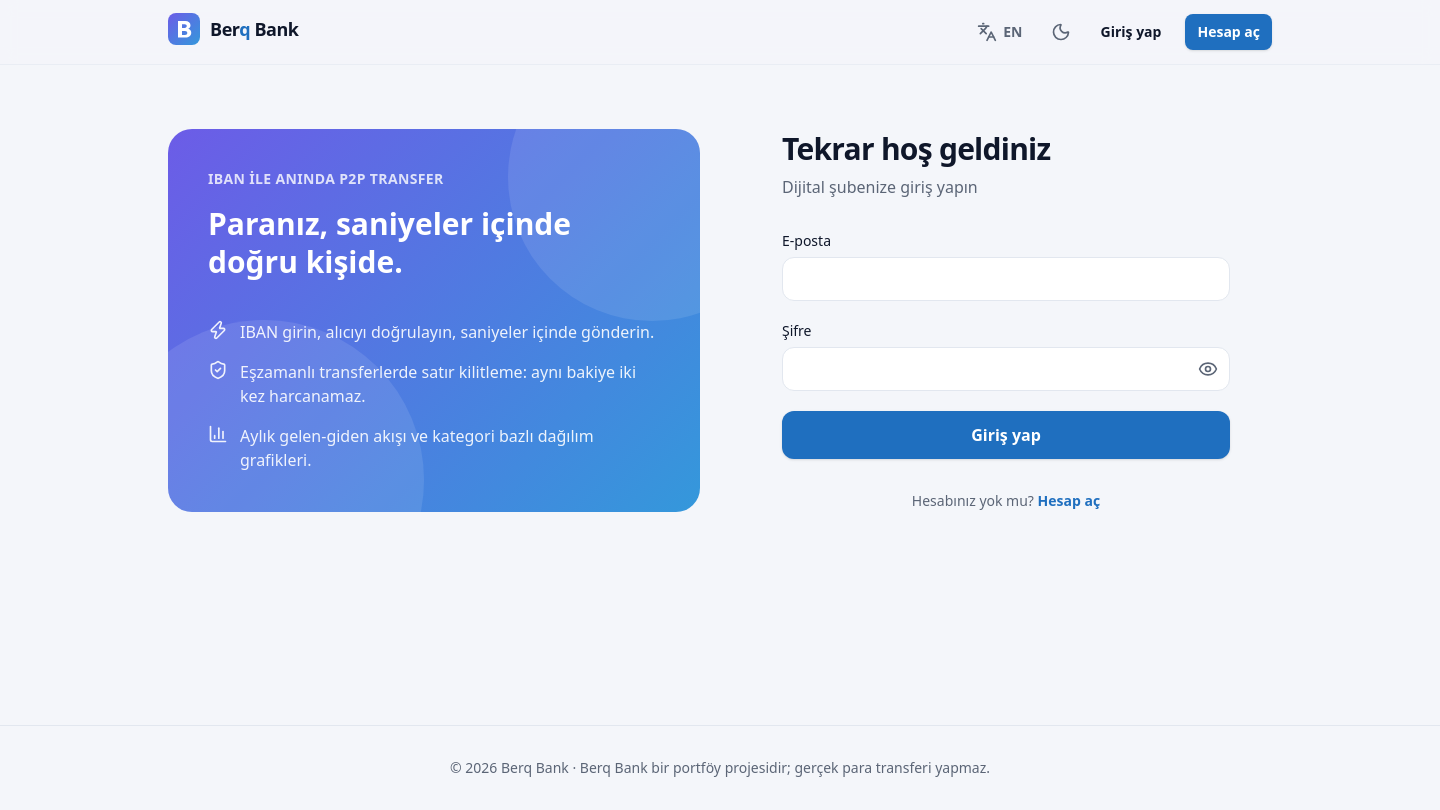
authentication flow › shows the translated server error for wrong credentials
The width and height of the screenshot is (1440, 810).
In the field labelled "E-posta": (1006,278) top-left (782, 256), bottom-right (1230, 300), type "demo@berqbank.dev"
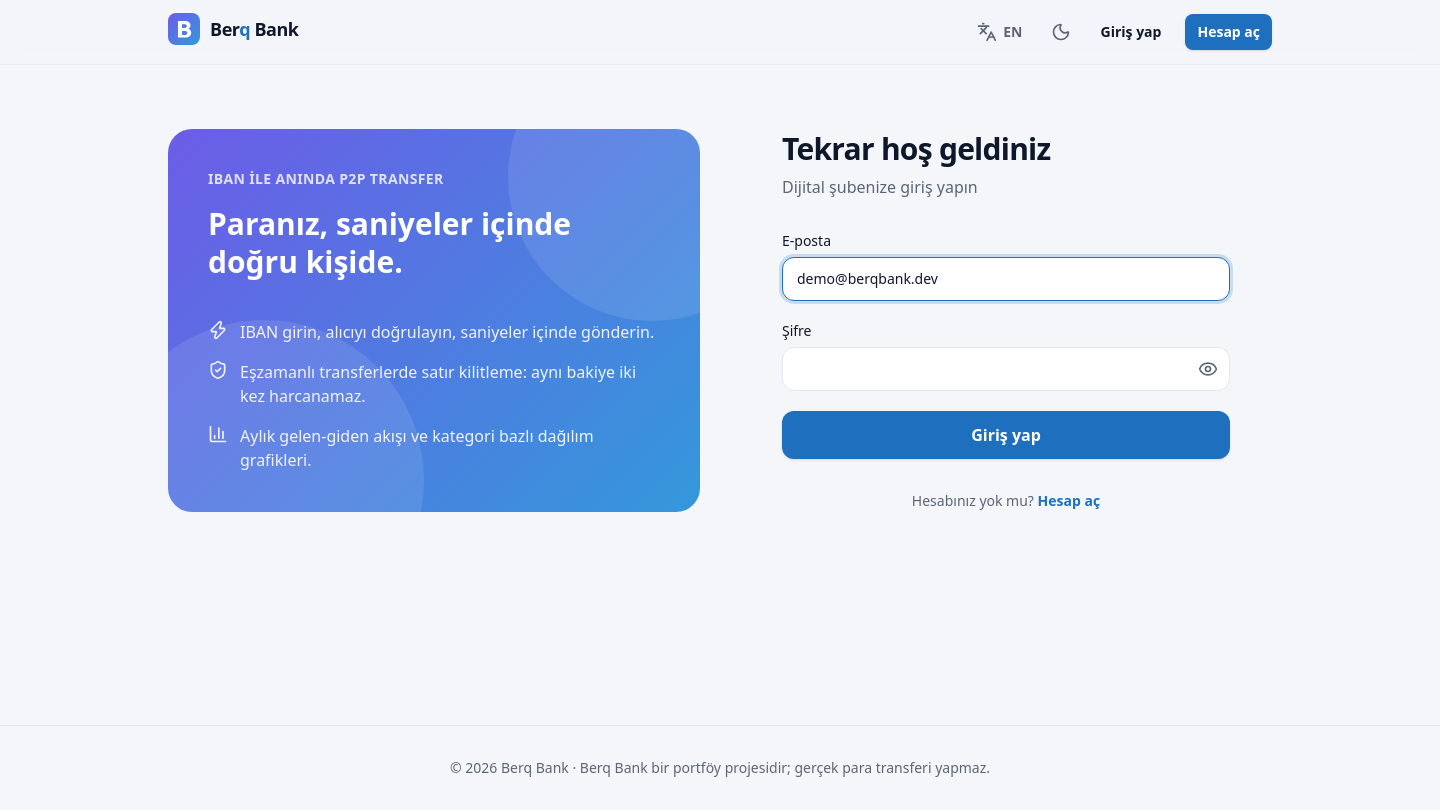
In the password field labelled "Şifre": (1006,368) top-left (782, 346), bottom-right (1230, 390), type "wrong-password"
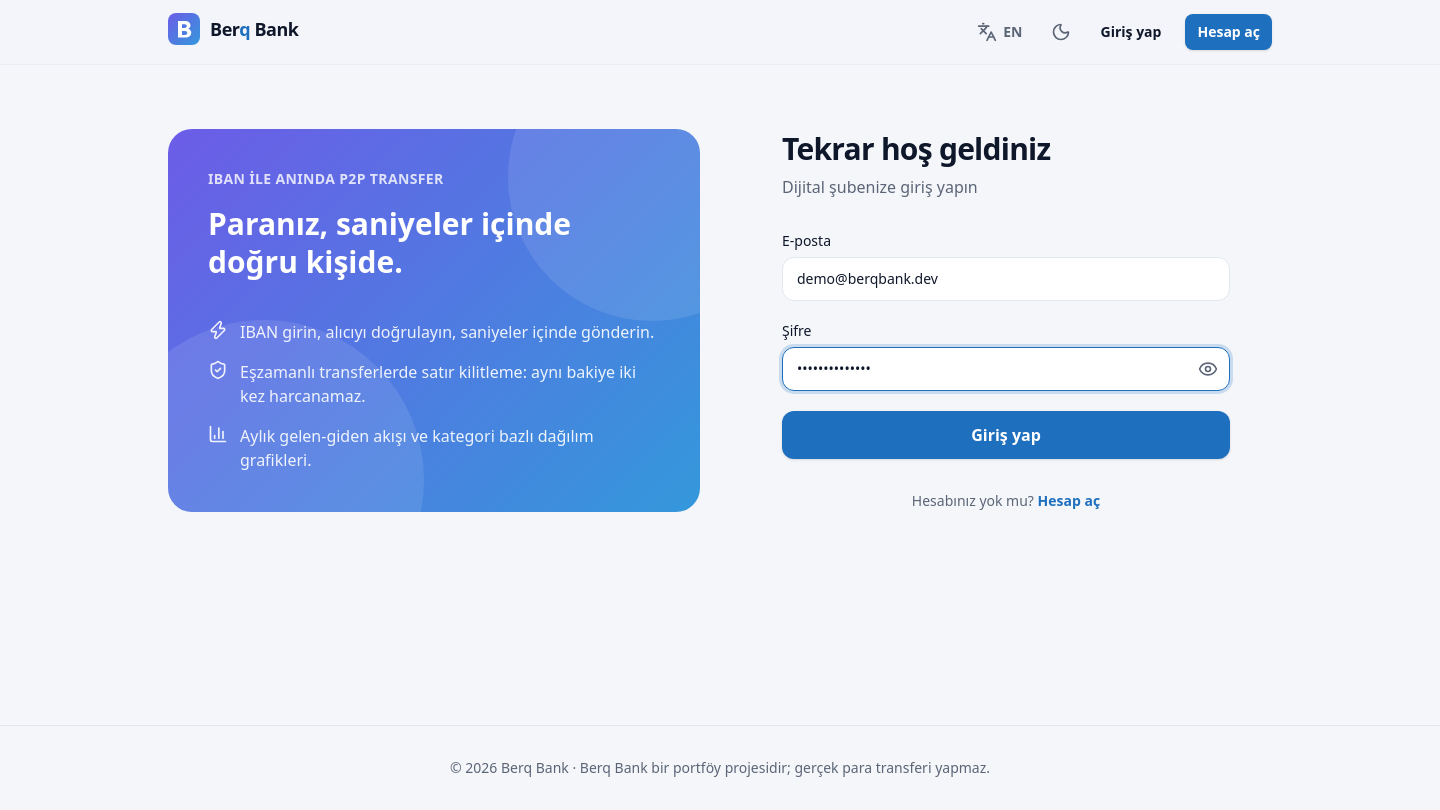
Click the button "Giriş yap": (1006,434) top-left (782, 410), bottom-right (1230, 458)
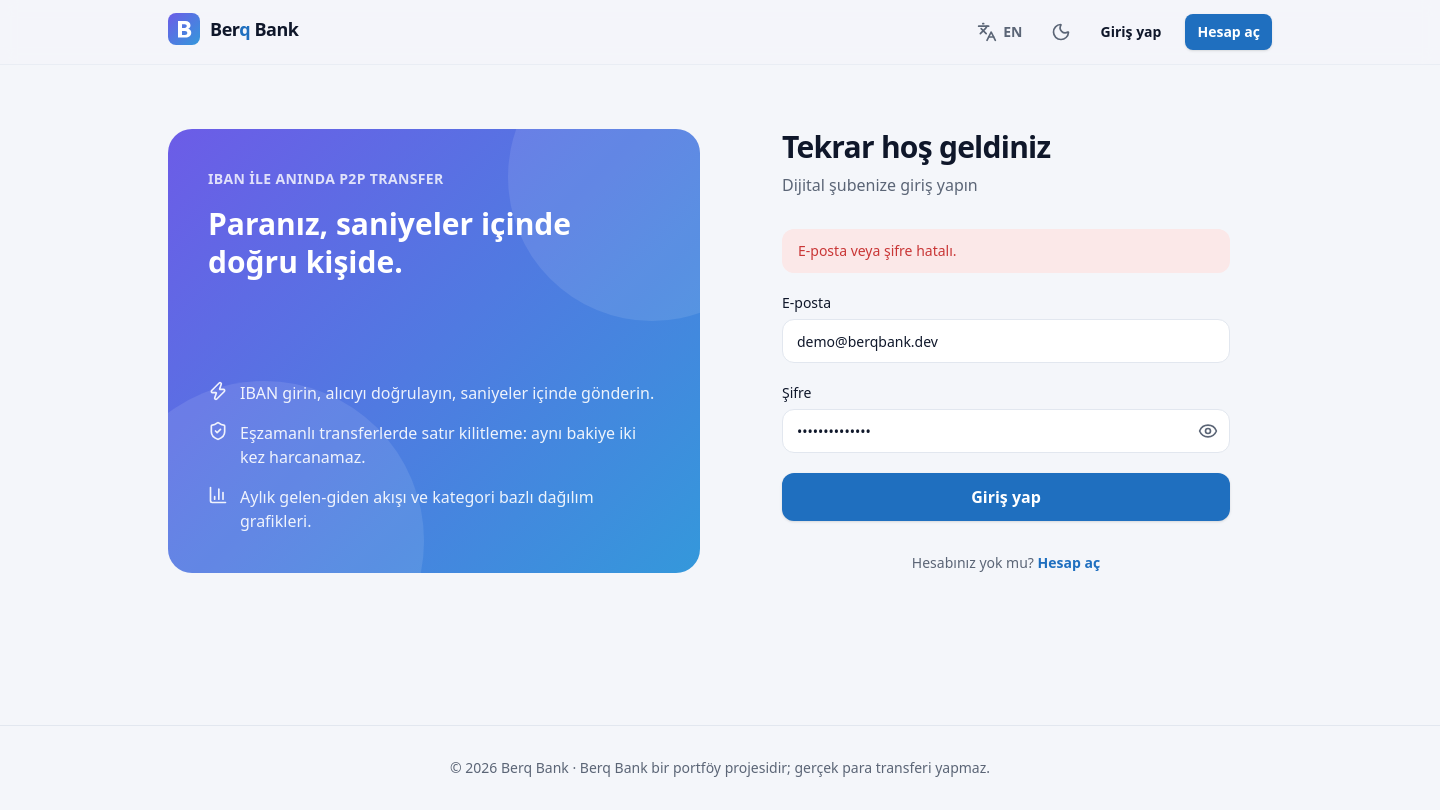
Expected: the message reads "E-posta veya şifre hatalı.", top-left (798, 241), bottom-right (957, 260)
